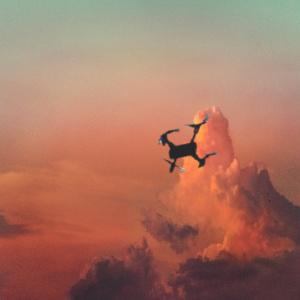drone: (125, 90, 250, 215)
